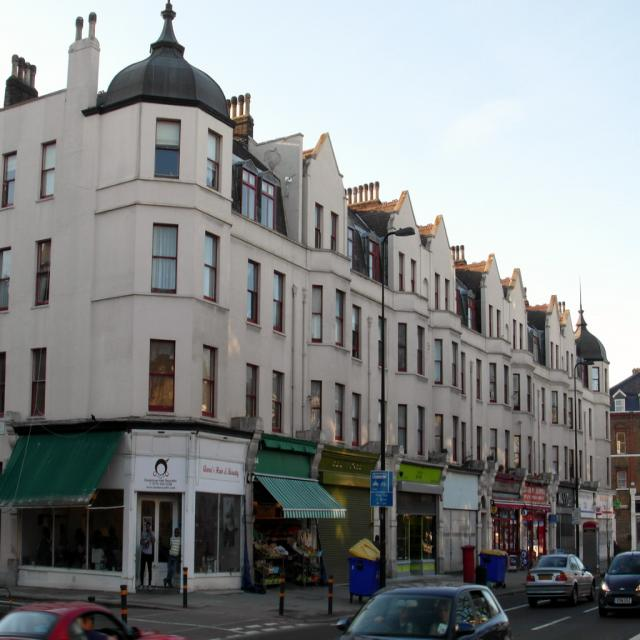other: (338, 581, 511, 639), (0, 603, 184, 639), (526, 554, 594, 608), (599, 538, 639, 616)
